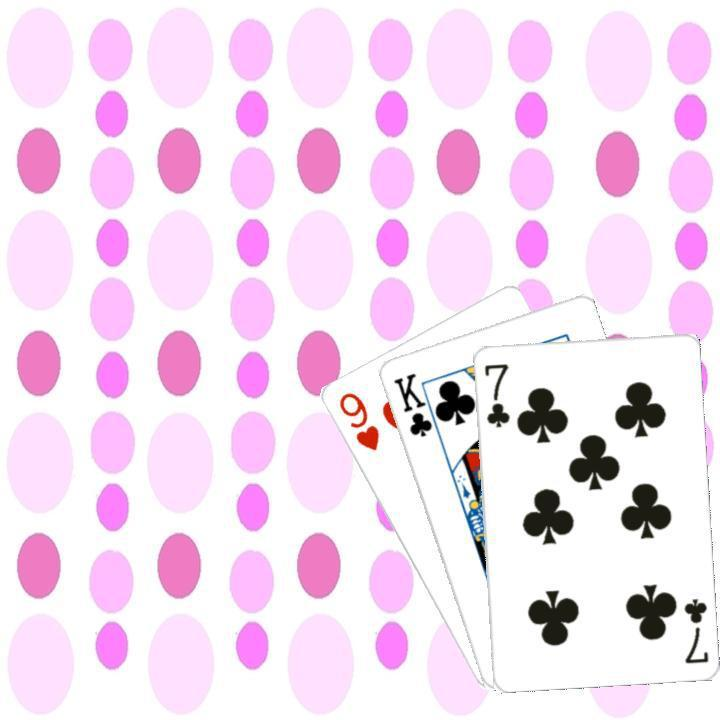7: (479, 358, 511, 429), (679, 594, 710, 666)
9: (334, 387, 381, 453)
K: (389, 368, 444, 440)
